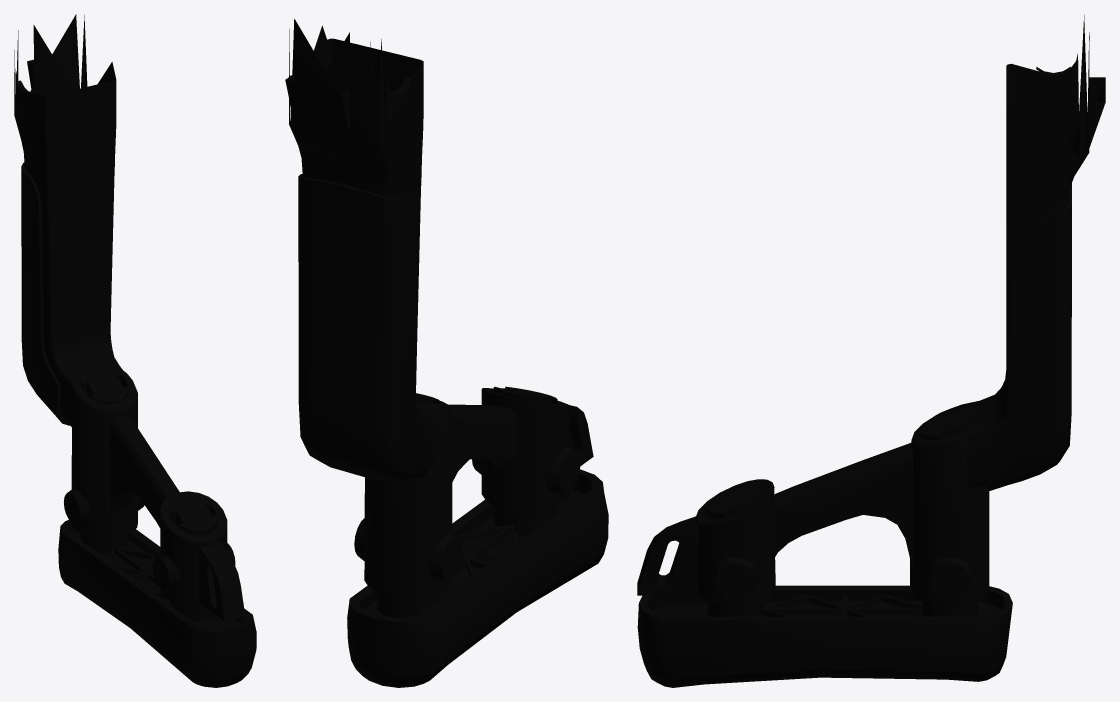
Rendered from Stock_Kriss.fbx.
3 renders of one model, left to right at view 1: azimuth 30°, elevation 25°; view 2: azimuth 150°, elevation 25°; view 3: azimuth 270°, elevation 25°, orthographic. The views are drawn at different scales.
Parts seen in each view (by area): view 1: asset_KrissVector.002; view 2: asset_KrissVector.002; view 3: asset_KrissVector.002.
Boxes of the visible parts, x1=… form: asset_KrissVector.002: x1=14, y1=14, x2=256, y2=687; asset_KrissVector.002: x1=285, y1=19, x2=608, y2=687; asset_KrissVector.002: x1=637, y1=15, x2=1105, y2=687.
Size of the model in its own units: 0.0227 by 0.151 by 0.0996.
